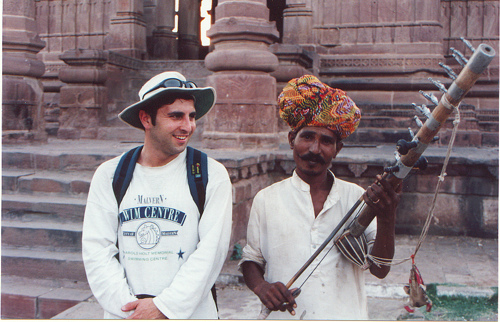without_mask: (139, 95, 198, 152), (288, 121, 345, 176)
